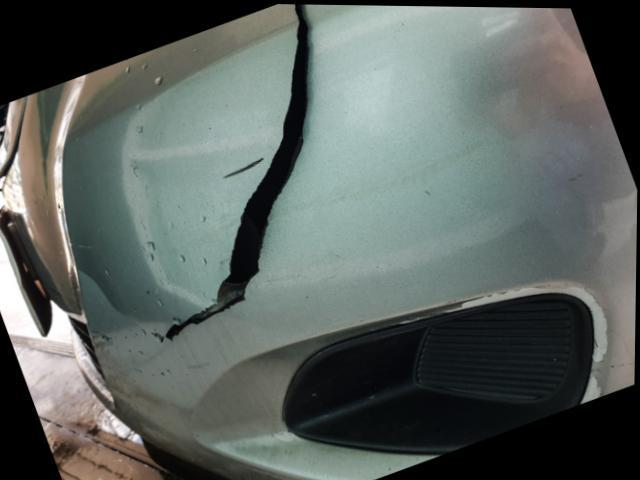crack: (164, 3, 312, 341)
